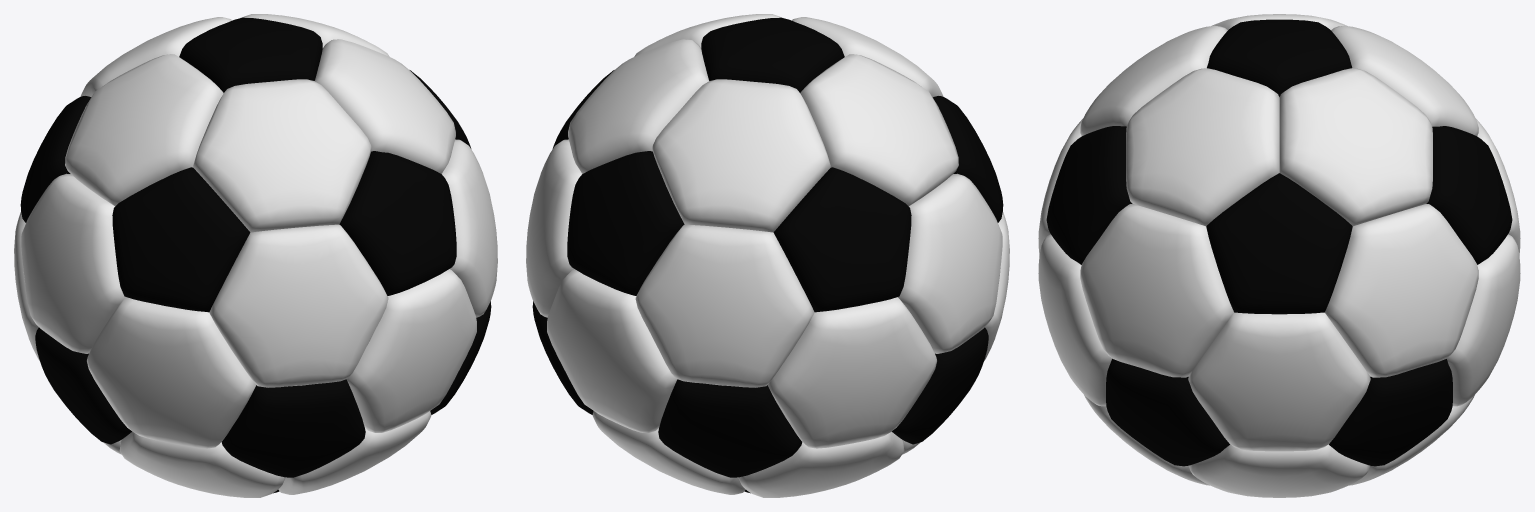
The model's file is balon.obj.
The picture shows the model from 3 angles, left to right: view 1: azimuth 30°, elevation 25°; view 2: azimuth 150°, elevation 25°; view 3: azimuth 270°, elevation 25°; orthographic projection.
Parts seen in each view (by area): view 1: Object_4; view 2: Object_4; view 3: Object_4.
Boxes of the visible parts, x1,y1,x2,y2 form: Object_4: [14, 14, 497, 497]; Object_4: [526, 14, 1009, 497]; Object_4: [1038, 14, 1520, 497].
Bounding box in the file's own units: 1.87 × 1.88 × 1.87.
Materials: 1 (1 with a texture image).
